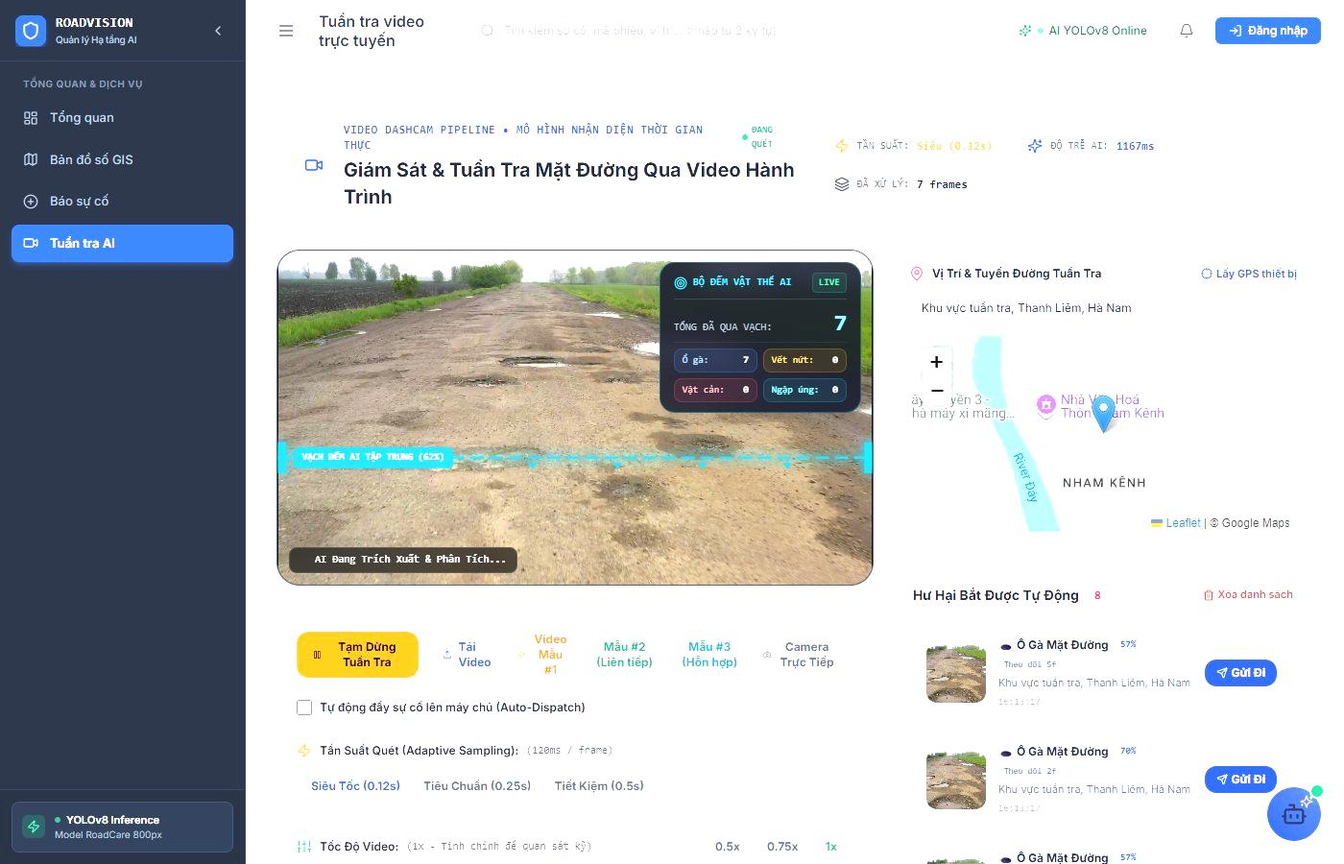POTHOLE: (531, 467, 948, 674)
